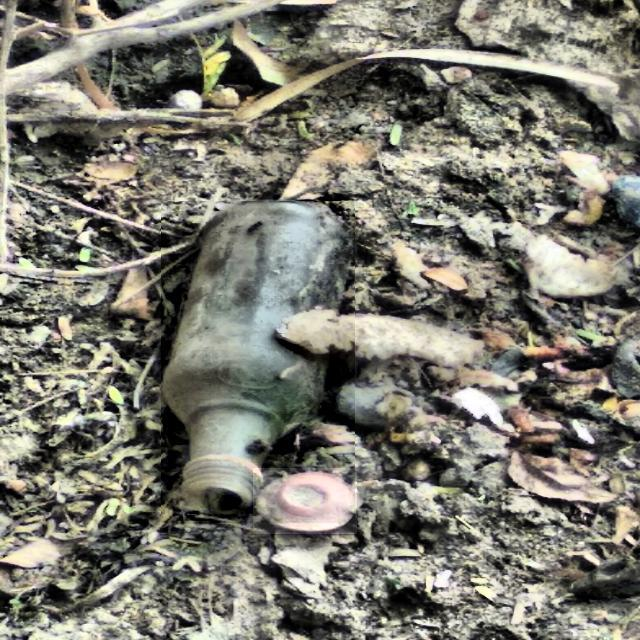anorganik: (162, 202, 355, 522), (253, 469, 357, 534)
